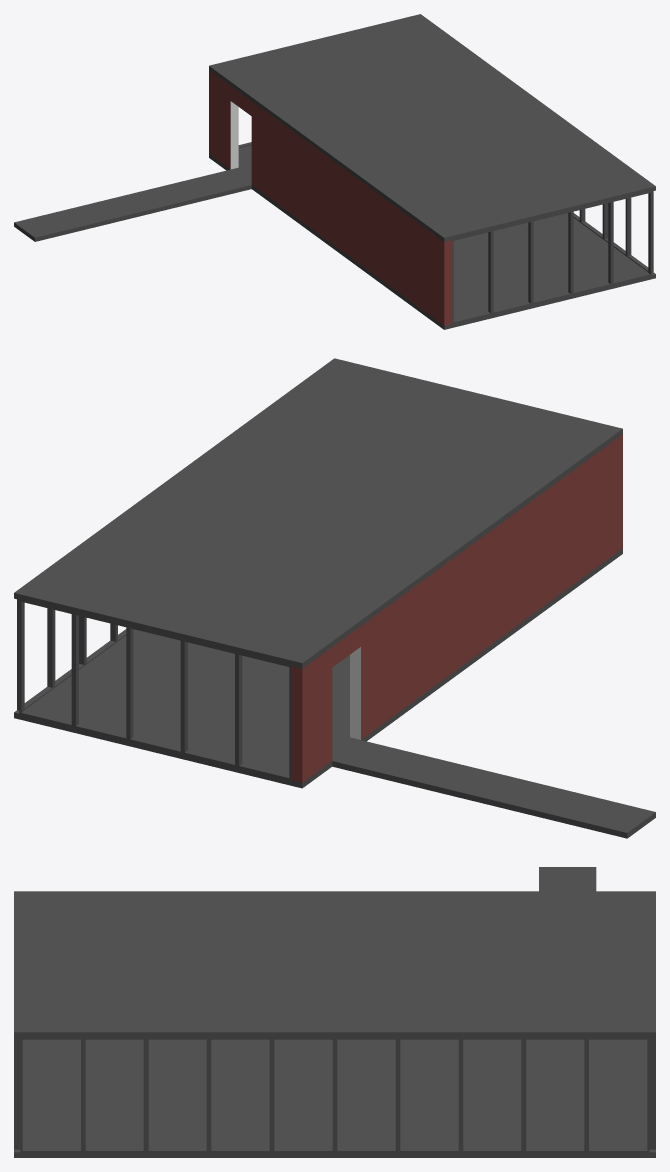
File: Space1.fbx
The picture shows the model from 3 angles, top to bottom: view 1: azimuth 30°, elevation 25°; view 2: azimuth 150°, elevation 25°; view 3: azimuth 270°, elevation 25°; orthographic projection. The views are drawn at different scales.
Visible parts, largest first — view 1: Plane.002, Plane.001, Plane, Cube.001, Cube; view 2: Plane.002, Plane.001, Plane, Cube.002, Cube; view 3: Plane.002, Plane, Cube, Cube.002, Cube.001.
Part boxes in pixels (x1=…): Plane.002: x1=209, y1=14, x2=655, y2=241; Plane.001: x1=209, y1=70, x2=452, y2=325; Plane: x1=14, y1=145, x2=655, y2=329; Cube.001: x1=452, y1=191, x2=651, y2=323; Cube: x1=567, y1=191, x2=653, y2=272; Plane.002: x1=14, y1=358, x2=622, y2=668; Plane.001: x1=291, y1=434, x2=622, y2=782; Plane: x1=14, y1=548, x2=655, y2=838; Cube.002: x1=19, y1=600, x2=291, y2=779; Cube: x1=17, y1=599, x2=134, y2=710; Plane.002: x1=14, y1=891, x2=655, y2=1038; Plane: x1=14, y1=867, x2=655, y2=1157; Cube: x1=20, y1=1038, x2=649, y2=1152; Cube.002: x1=649, y1=1038, x2=655, y2=1149; Cube.001: x1=14, y1=1038, x2=20, y2=1149.
Size of the model in its own units: 2145 by 440 by 2040.
